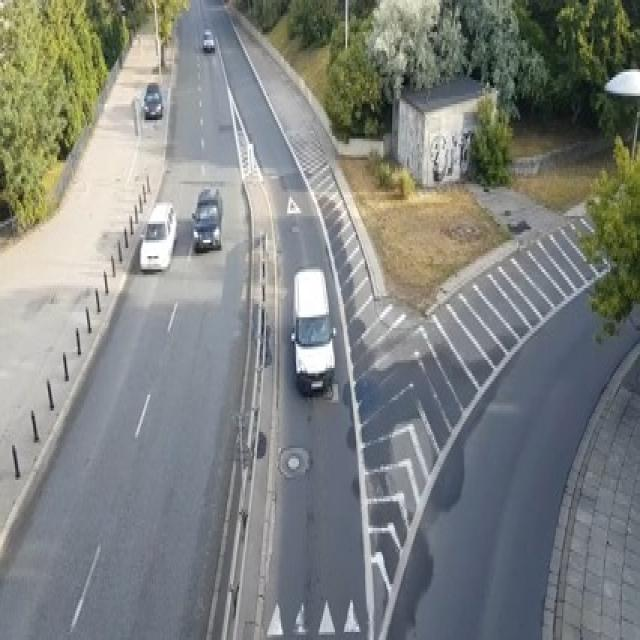car: (290, 266, 336, 394), (138, 200, 176, 269), (191, 187, 222, 250), (143, 83, 162, 117), (203, 27, 213, 50)
